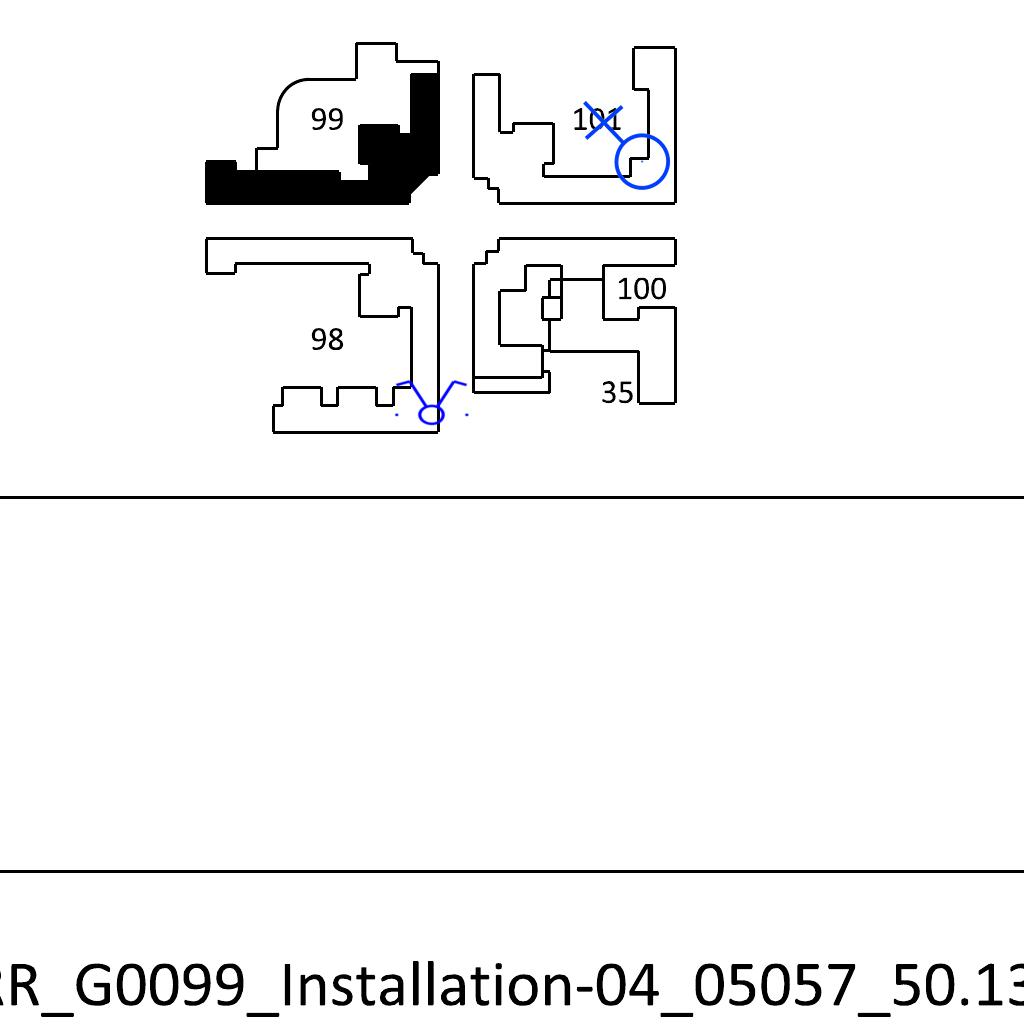Elektroanschluss_allgemein_230V_Geraeteanschlussdose_230V: (578, 100, 672, 199)
Serienschalter: (389, 378, 473, 426)
